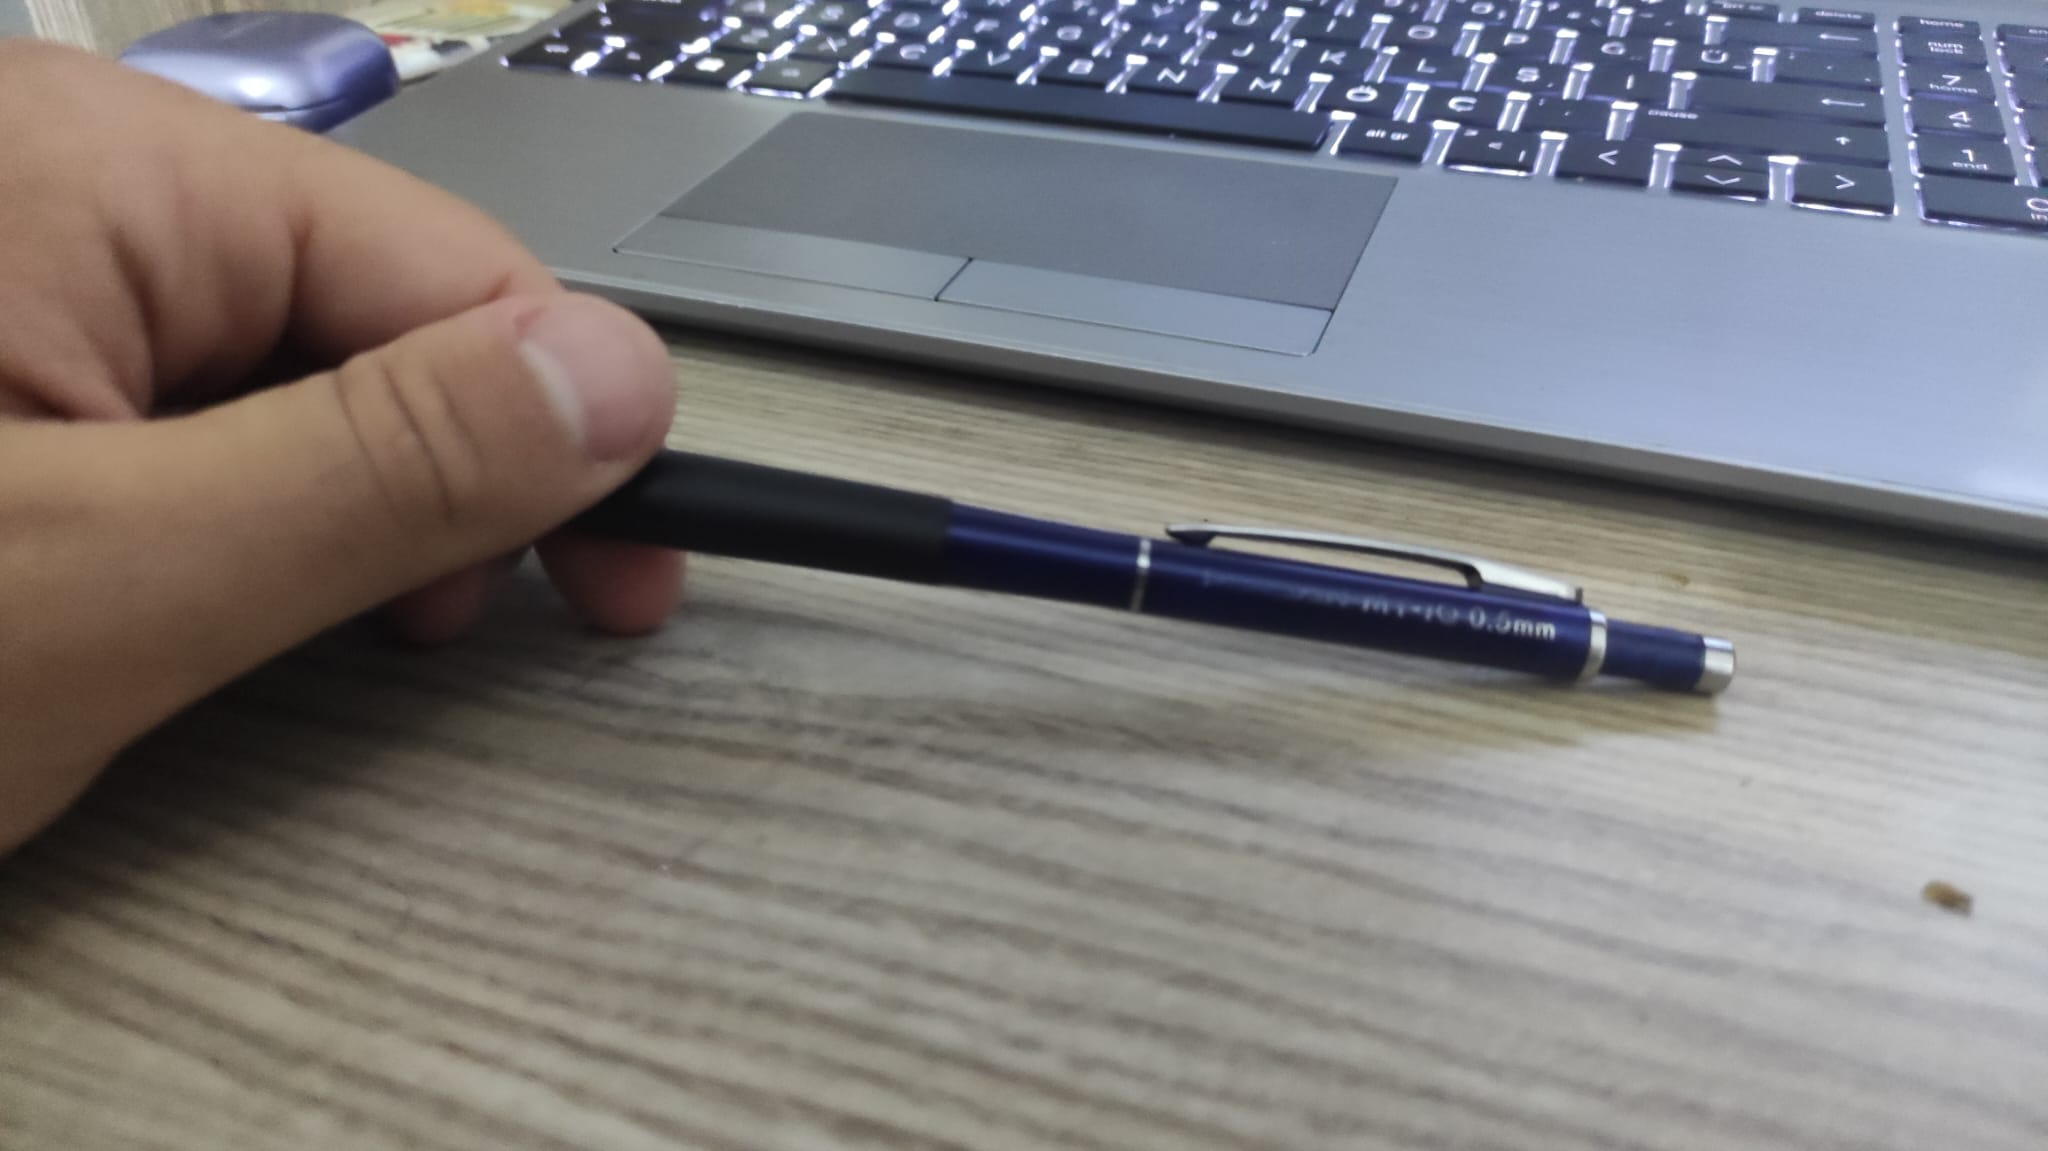kalem: (565, 440, 1744, 702)
